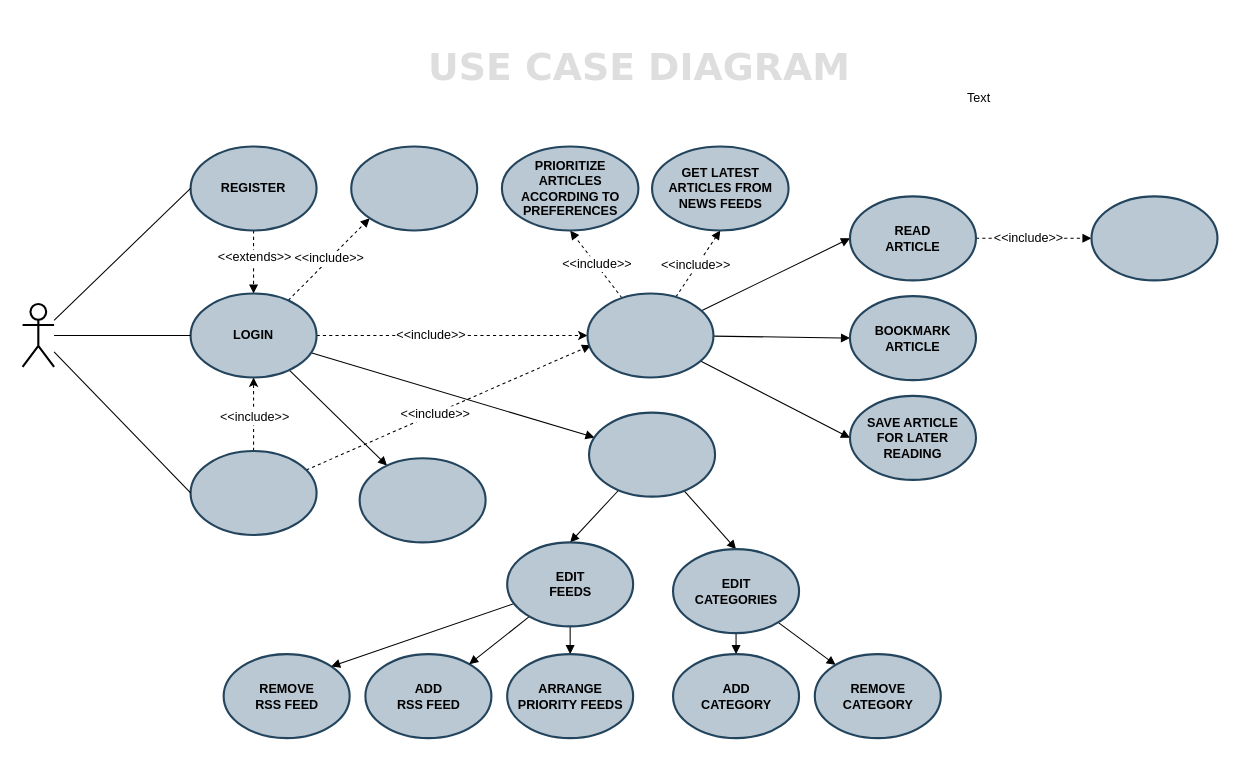
Image size: 1237x757. Some labels were removed from this diagram. Here are the shapes that lost their labels. From the top down, the box of each, then its label:
(350, 145, 478, 231): GET USER PREFERENCES
(1090, 195, 1218, 281): TAKE USER TO THE ORIGIN WEBSITE OF THE ARTICLE
(21, 302, 55, 368): Coffee Drinker
(586, 292, 714, 378): OFFER NEWS ARTICLES
(587, 411, 716, 497): EDIT PREFERENCES
(189, 449, 317, 536): SEARCH ARTICLES
(358, 457, 486, 543): EDIT VIEWSPACE (THEME/LAYOUT)
